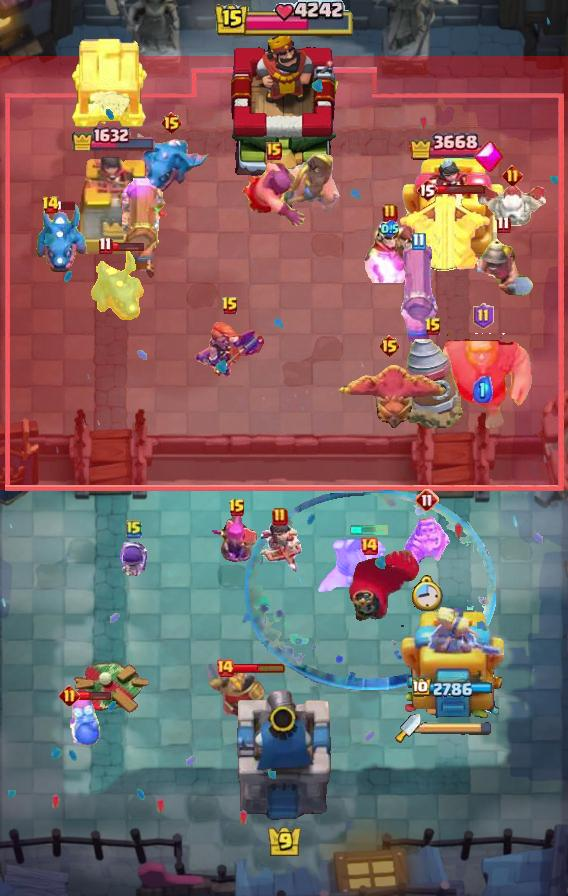balloon: (432, 333, 534, 431)
bandit: (471, 234, 535, 298)
bar: (399, 607, 507, 731)
battle-healer: (121, 177, 167, 281), (395, 245, 441, 349)
bomb: (69, 35, 149, 129)
clock: (213, 0, 355, 40)
electro-spirit: (473, 377, 493, 404), (381, 220, 399, 238)
elixir: (411, 575, 443, 611)
emote: (233, 662, 286, 674), (436, 185, 486, 196), (110, 240, 146, 252), (76, 691, 112, 702), (57, 201, 77, 212)
evolution-symbol: (212, 512, 262, 568)
firecracker: (207, 664, 265, 725)
firecracker-evolution: (404, 514, 450, 572)
freeze: (316, 537, 398, 611), (270, 150, 344, 222)
goblin: (118, 542, 149, 582)
graveyard: (132, 130, 210, 194), (89, 248, 145, 324), (33, 202, 89, 276)
ice-golem: (68, 697, 102, 747)
ice-spirit: (349, 525, 389, 535)
inferno-tower: (316, 545, 422, 633)
king-tower: (222, 31, 346, 181), (232, 686, 336, 826)
king-tower-bar: (421, 721, 493, 735)
lava-pup: (396, 192, 494, 274)
magic-archer: (400, 334, 466, 432)
mini-pekka: (475, 181, 549, 231)
monk: (241, 162, 307, 228)
mother-witch: (332, 362, 446, 430)
pad_0: (242, 488, 496, 690)
queen-tower: (401, 156, 505, 256), (71, 154, 157, 256)
selected: (409, 130, 497, 164), (71, 125, 157, 152), (413, 677, 496, 699)
skeleton-dragon: (258, 517, 302, 577)
skeleton-king: (362, 219, 418, 283)
skeleton-king-skill: (472, 140, 504, 174)
tesla-evolution: (194, 321, 266, 379)
text: (415, 488, 439, 512), (161, 111, 184, 135), (379, 334, 402, 358), (474, 303, 495, 329), (416, 178, 438, 202), (501, 166, 522, 187), (59, 686, 80, 707), (359, 536, 379, 556), (215, 658, 235, 678), (40, 195, 59, 215), (221, 296, 239, 316), (424, 317, 442, 337), (228, 498, 246, 518), (382, 203, 398, 223), (272, 507, 288, 527), (126, 519, 142, 539), (266, 142, 282, 160), (410, 232, 425, 251), (99, 237, 114, 256), (497, 215, 511, 233)
